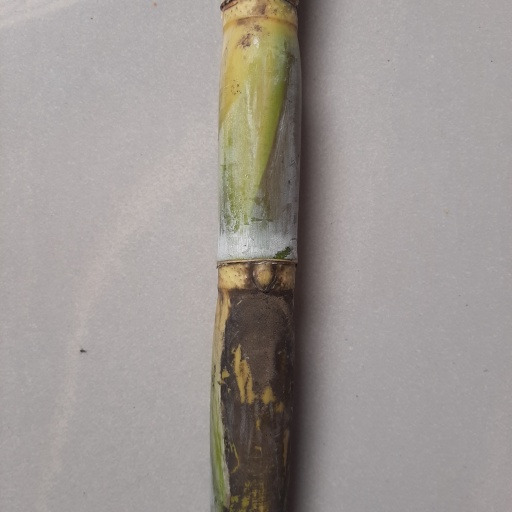Bud: (249, 262, 277, 293)
